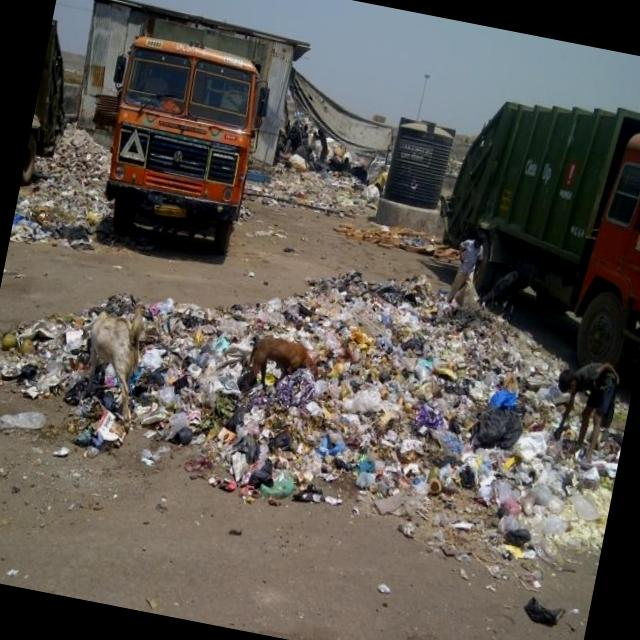garbage: (0, 275, 623, 575)
